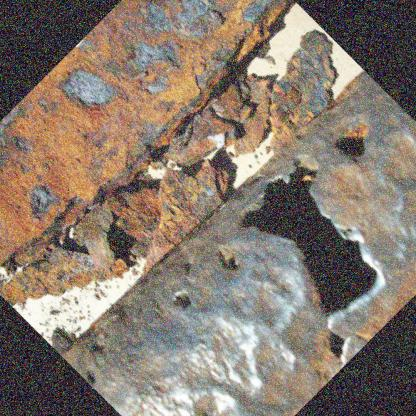burst: (223, 178, 390, 317)
